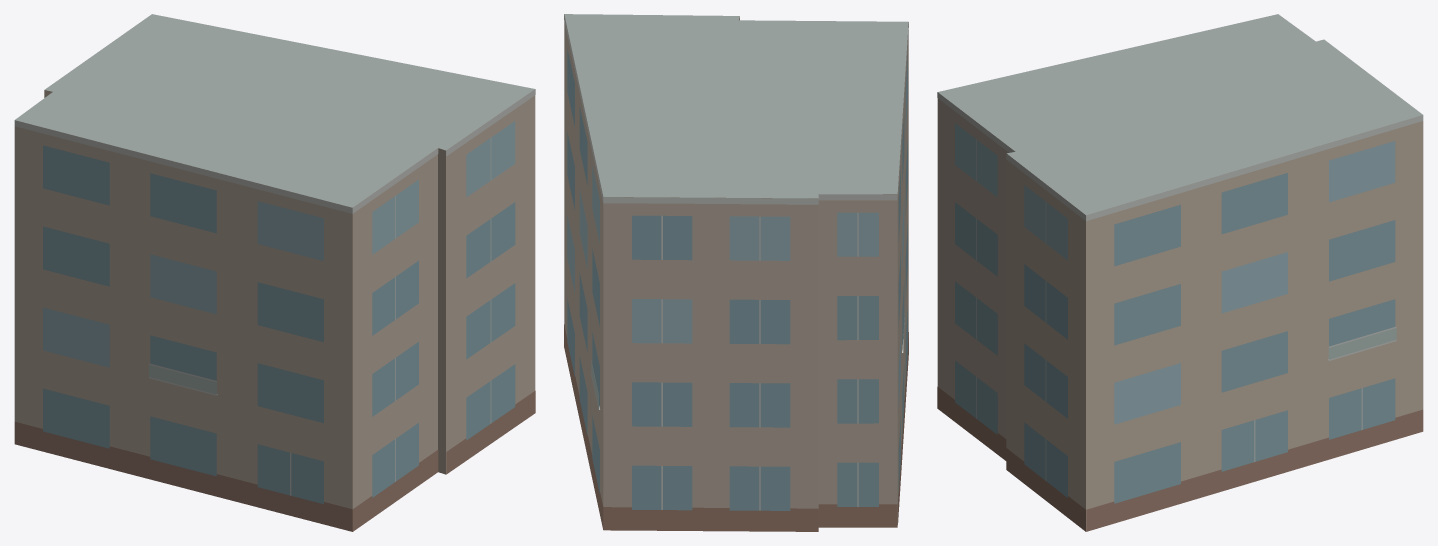
The model's file is survey-upis-32869654.glb.
3 views of the same model, side by side, from view 1: azimuth 30°, elevation 25°; view 2: azimuth 150°, elevation 25°; view 3: azimuth 270°, elevation 25° (orthographic). The views are drawn at different scales.
Visible parts, largest first — view 1: survey-upis-32869654.tmp; view 2: survey-upis-32869654.tmp; view 3: survey-upis-32869654.tmp.
Part boxes in pixels (left/top/right/bottom): survey-upis-32869654.tmp: left=14, top=14, right=535, bottom=531; survey-upis-32869654.tmp: left=564, top=14, right=908, bottom=531; survey-upis-32869654.tmp: left=937, top=14, right=1423, bottom=531.
Bounding box in the file's own units: 17.74 × 13 × 18.09.
